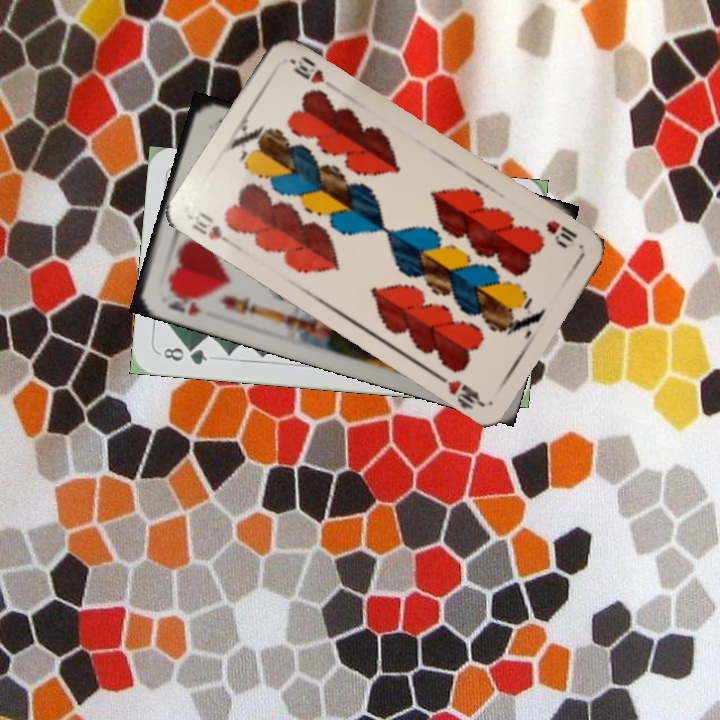G8: (159, 342, 210, 368)
H10: (186, 207, 239, 250), (541, 215, 580, 250)
HK: (163, 286, 204, 318)
